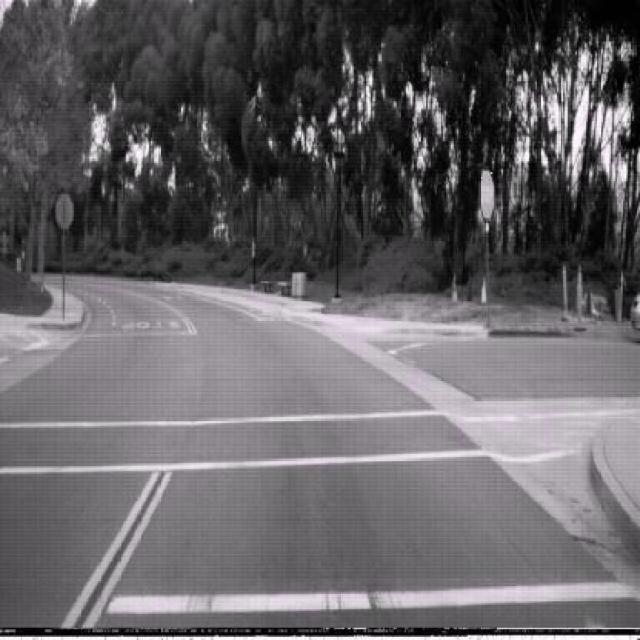stop: (478, 170, 495, 220)
